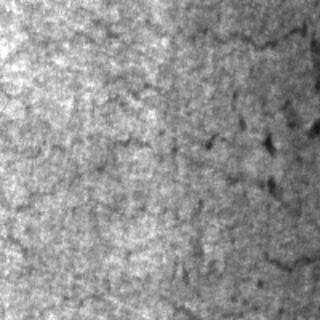crazing: (5, 127, 150, 306), (66, 10, 318, 102), (219, 75, 305, 275)
